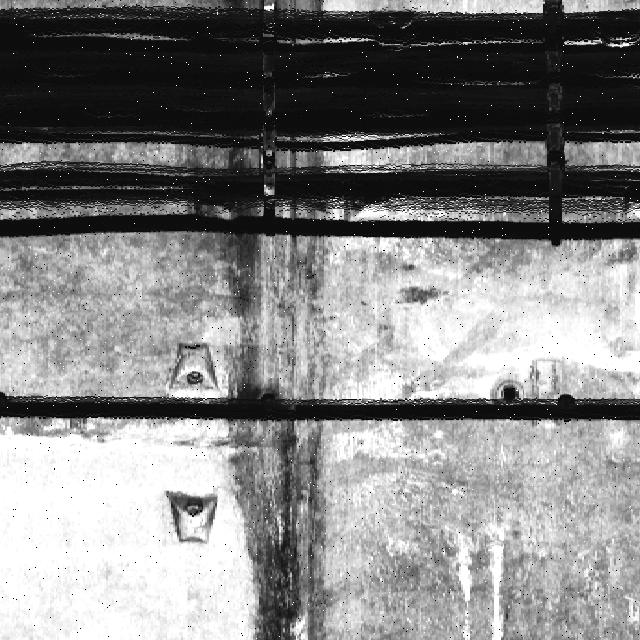leakage: (208, 138, 346, 640)
